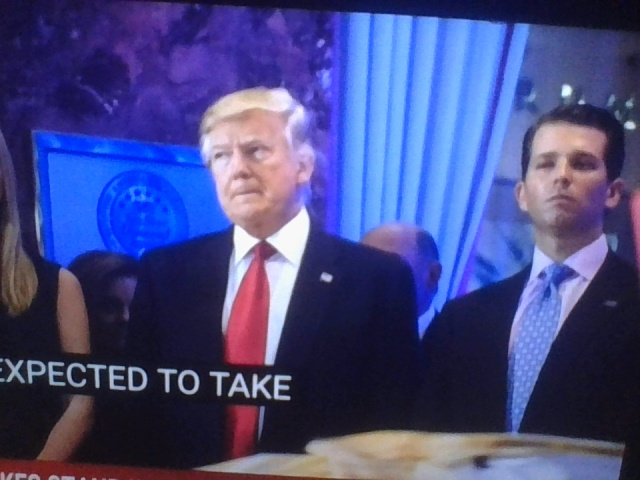fake: (194, 54, 320, 232), (516, 87, 626, 243)
